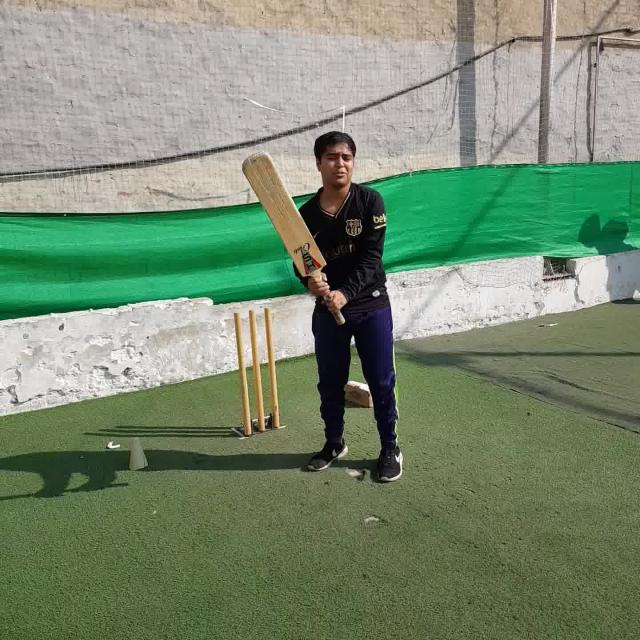bat: (242, 152, 345, 325)
